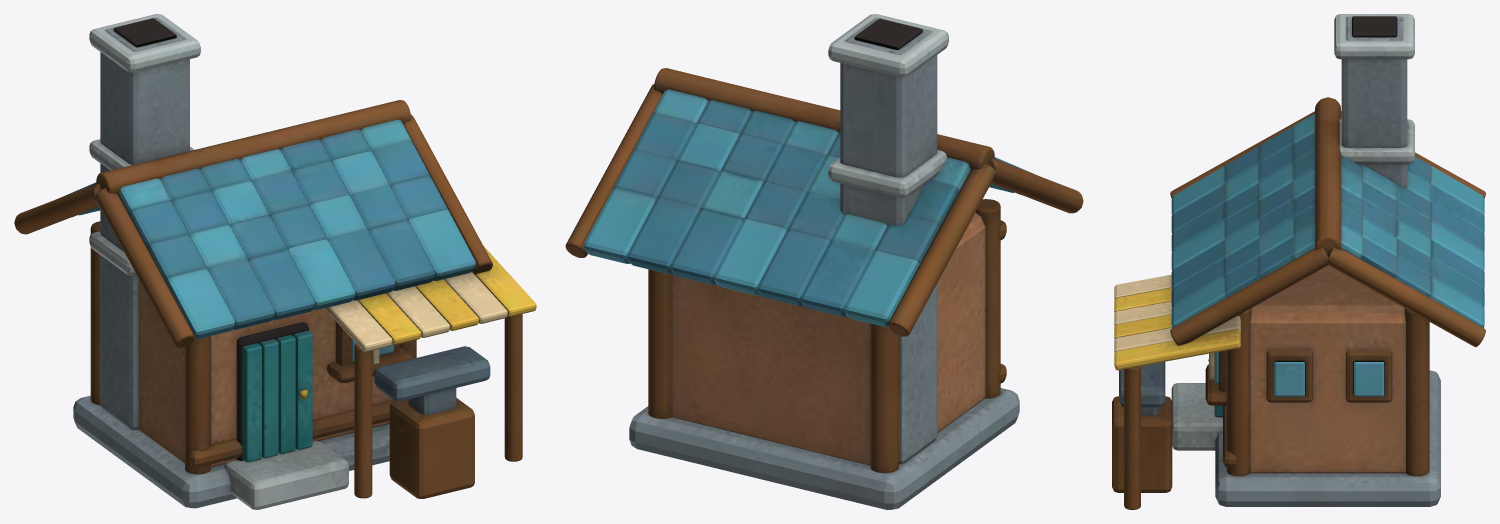
The model's file is workshop.glb.
3 renders of one model, left to right at view 1: azimuth 30°, elevation 25°; view 2: azimuth 150°, elevation 25°; view 3: azimuth 270°, elevation 25°, orthographic. The views are drawn at different scales.
Parts seen in each view (by area): view 1: AnvilStump; view 2: AnvilStump; view 3: AnvilStump.
Part boxes in pixels (x1,y1,x2,y2): AnvilStump: (14,14,536,509); AnvilStump: (565,14,1083,509); AnvilStump: (1112,14,1485,509).
Bounding box in the file's own units: 2.63 × 3.15 × 2.73.
Materials: 1 (1 with a texture image).
